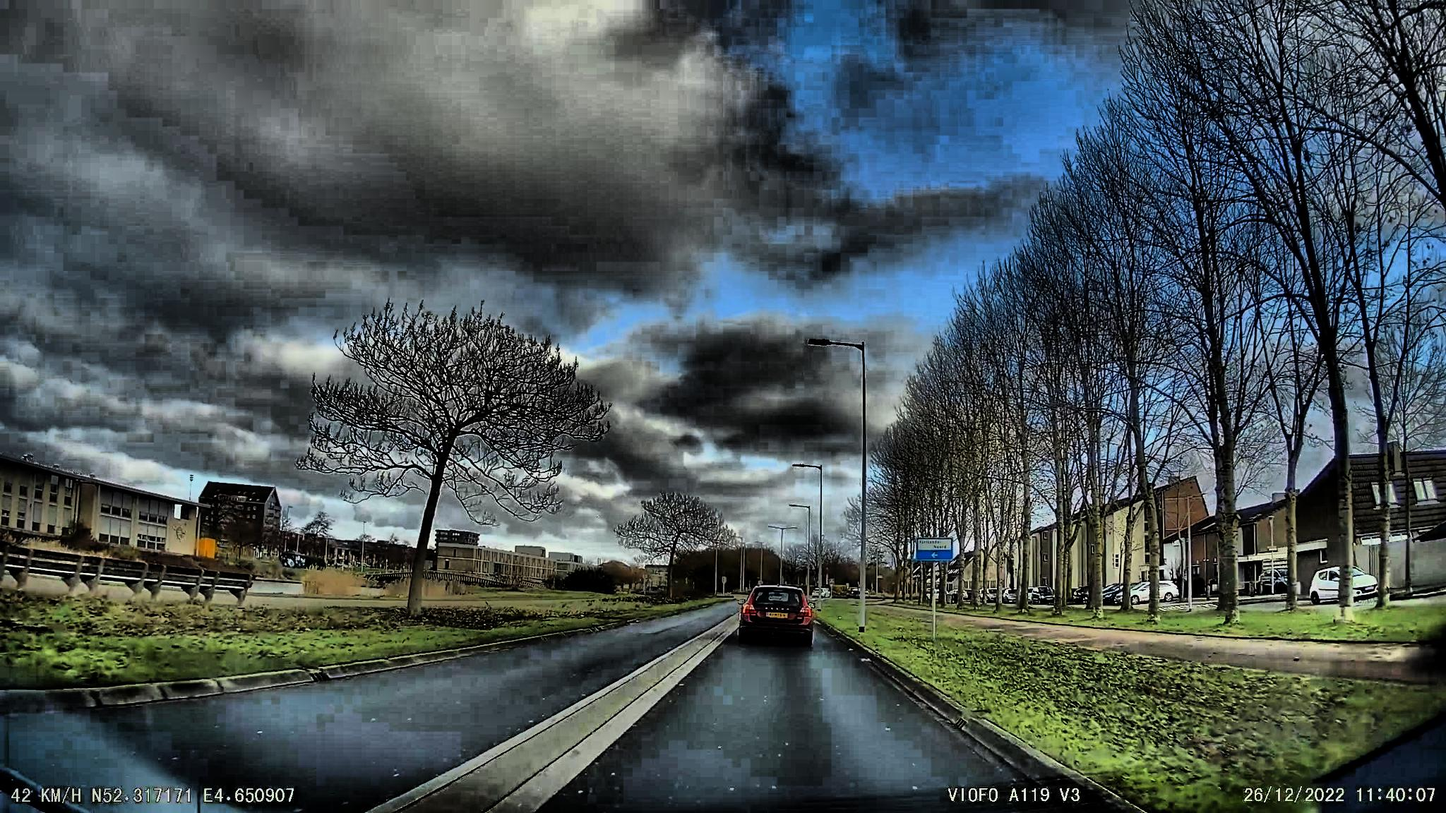Roads: (0, 605, 1151, 813)
